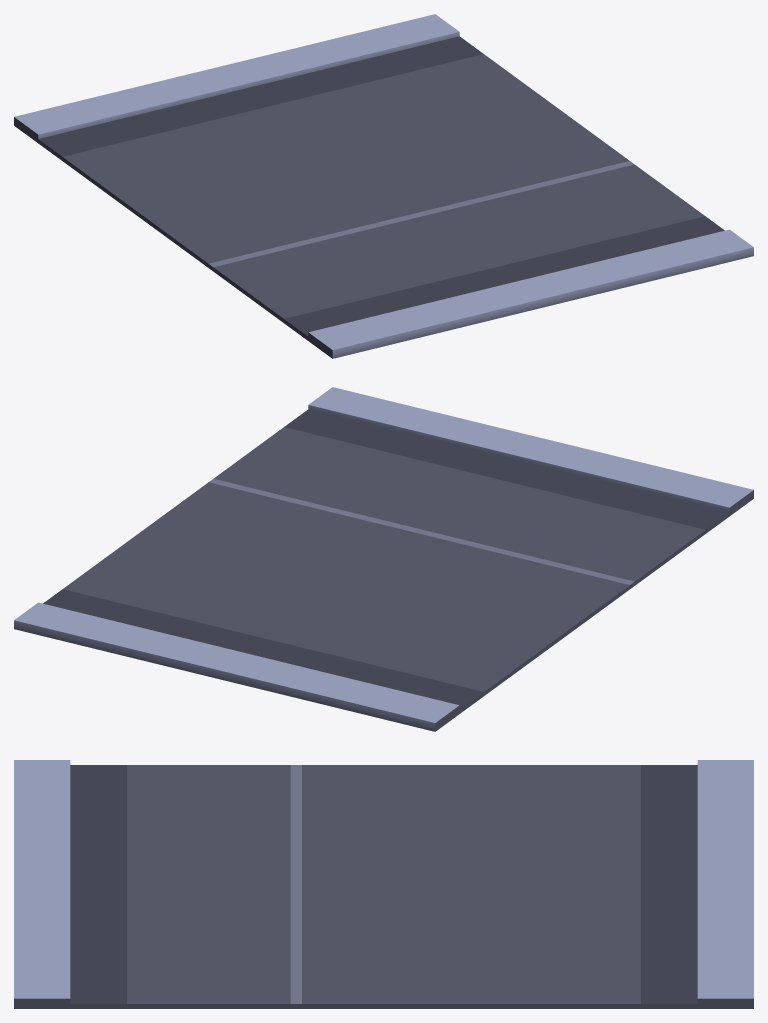
File: road-side.glb
3 renders of one model, top to bottom at view 1: azimuth 30°, elevation 25°; view 2: azimuth 150°, elevation 25°; view 3: azimuth 270°, elevation 25°, orthographic. The views are drawn at different scales.
Visible parts, largest first — view 1: road-side; view 2: road-side; view 3: road-side.
Part boxes in pixels (bbox=[...]): road-side: bbox=[14, 14, 753, 358]; road-side: bbox=[14, 387, 753, 731]; road-side: bbox=[14, 760, 753, 1008].
Size of the model in its own units: 1 by 0.02 by 1.31.
